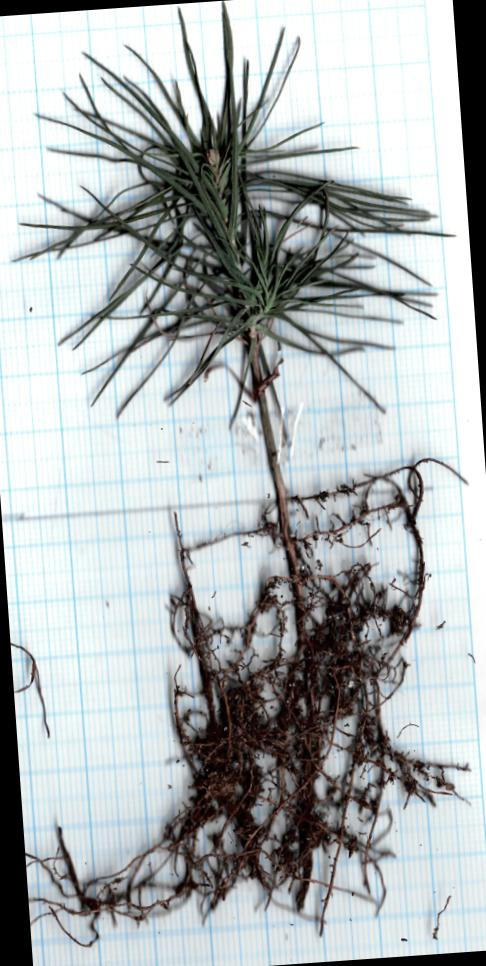flower: (0, 0, 469, 449)
root: (16, 454, 486, 966)
stem: (246, 364, 292, 502)
